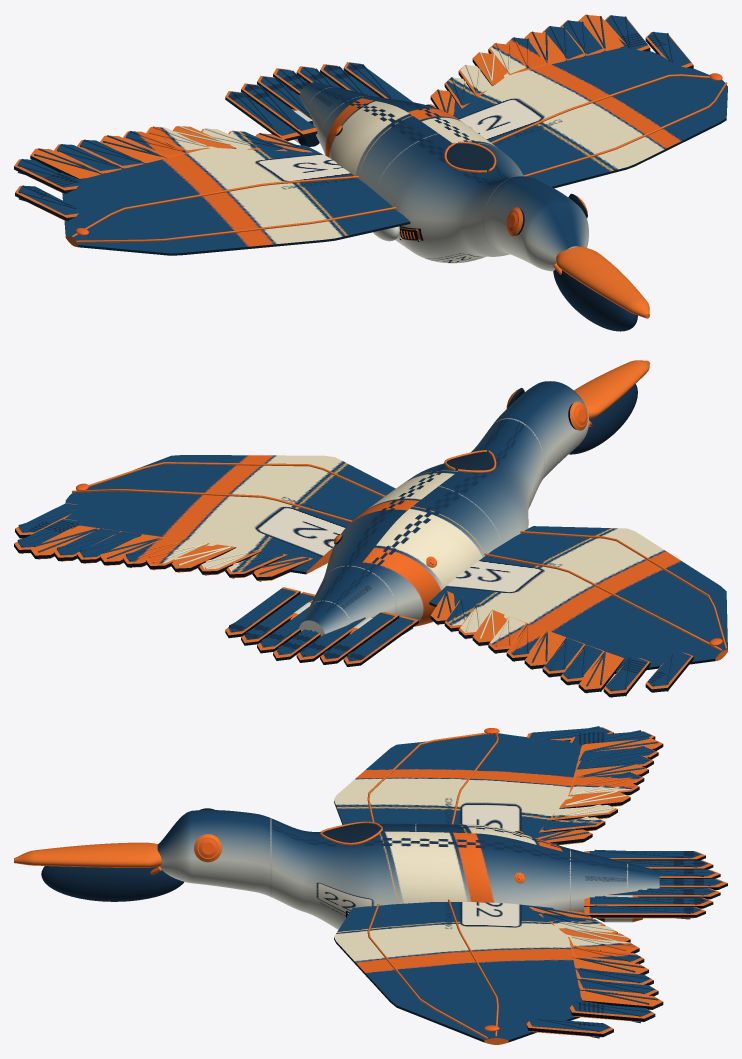
3 views of the same model, one above another, from view 1: azimuth 30°, elevation 25°; view 2: azimuth 150°, elevation 25°; view 3: azimuth 270°, elevation 25° (orthographic). The views are drawn at different scales.
Parts seen in each view (by area): view 1: pelican_hull; view 2: pelican_hull; view 3: pelican_hull.
Boxes of the visible parts, box(x1,y1,x2,y2) form: pelican_hull: box(14, 14, 727, 331); pelican_hull: box(14, 360, 727, 697); pelican_hull: box(14, 726, 727, 1044).
Bounding box in the file's own units: 256 × 48.56 × 252.
Materials: 1 (1 with a texture image).
